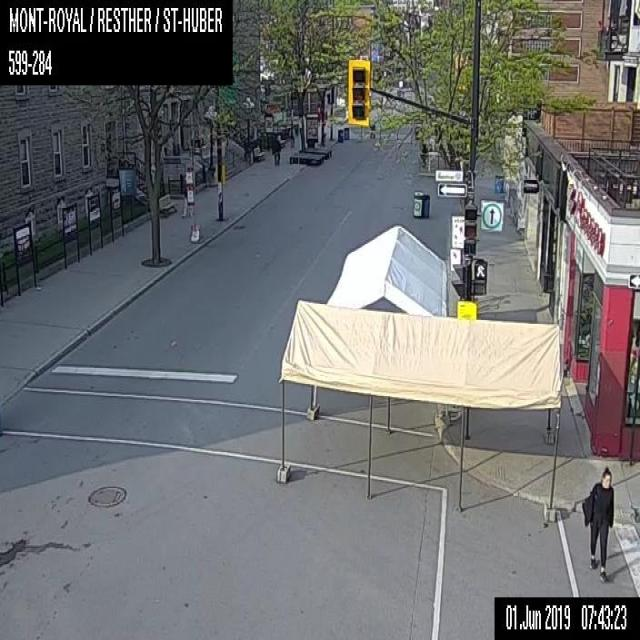pedestrian: (582, 466, 614, 580), (271, 136, 281, 164)
